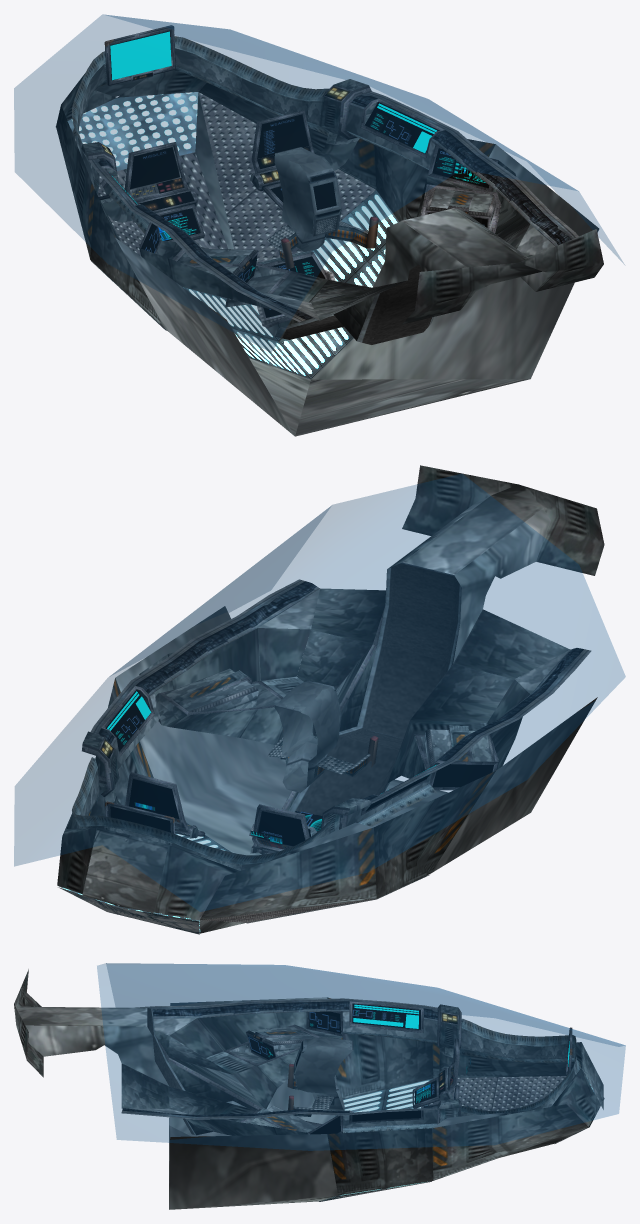
File: spaceship_cockpiyt.glb
3 views of the same model, one above another, from view 1: azimuth 30°, elevation 25°; view 2: azimuth 150°, elevation 25°; view 3: azimuth 270°, elevation 25° (orthographic). The views are drawn at different scales.
Visible parts, largest first — view 1: Object_2, Object_13, Object_6, Object_10, Object_3, Object_5, Object_14, Object_19, Object_9, Object_8, Object_16, Object_7 (+3 smaller); view 2: Object_2, Object_13, Object_9, Object_5, Object_3, Object_19, Object_14, Object_8, Object_20, Object_10; view 3: Object_2, Object_13, Object_5, Object_3, Object_14, Object_10, Object_8, Object_19, Object_6, Object_9, Object_17, Object_16 (+1 smaller).
Boxes of the visible parts, <box> form: Object_2: <box>14,14,624,352</box>; Object_13: <box>56,48,603,436</box>; Object_6: <box>67,92,399,379</box>; Object_10: <box>97,92,375,262</box>; Object_3: <box>88,25,501,328</box>; Object_5: <box>89,91,578,322</box>; Object_14: <box>71,36,428,268</box>; Object_19: <box>100,31,489,317</box>; Object_9: <box>275,264,433,344</box>; Object_8: <box>274,147,341,251</box>; Object_16: <box>110,31,436,204</box>; Object_7: <box>100,72,468,270</box>; Object_2: <box>14,474,625,911</box>; Object_13: <box>57,465,604,933</box>; Object_9: <box>288,562,461,815</box>; Object_5: <box>90,579,591,803</box>; Object_3: <box>82,607,498,853</box>; Object_19: <box>100,689,493,849</box>; Object_14: <box>72,716,436,864</box>; Object_8: <box>274,680,341,792</box>; Object_20: <box>58,875,429,934</box>; Object_10: <box>201,899,373,922</box>; Object_2: <box>97,963,625,1150</box>; Object_13: <box>14,969,603,1209</box>; Object_5: <box>121,998,437,1119</box>; Object_3: <box>155,1001,572,1134</box>; Object_14: <box>287,1018,580,1132</box>; Object_10: <box>428,1076,586,1110</box>; Object_8: <box>294,1037,353,1110</box>; Object_19: <box>247,1003,455,1134</box>; Object_6: <box>320,1078,594,1201</box>; Object_9: <box>147,1008,245,1134</box>; Object_17: <box>248,1009,387,1133</box>; Object_16: <box>353,1004,569,1066</box>.
Bounding box in the file's own units: 124 × 91.26 × 213.
19 materials, 17 textured.
